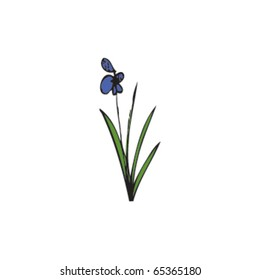flower: (97, 56, 161, 203)
